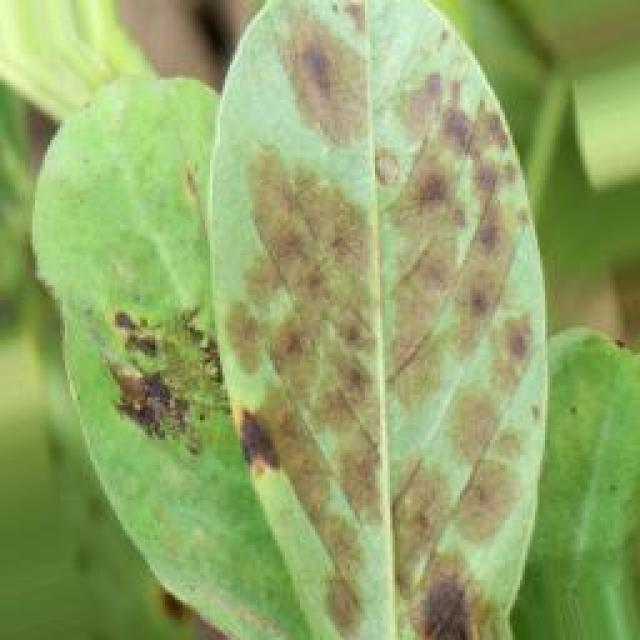Whitefly: (24, 0, 590, 640)
